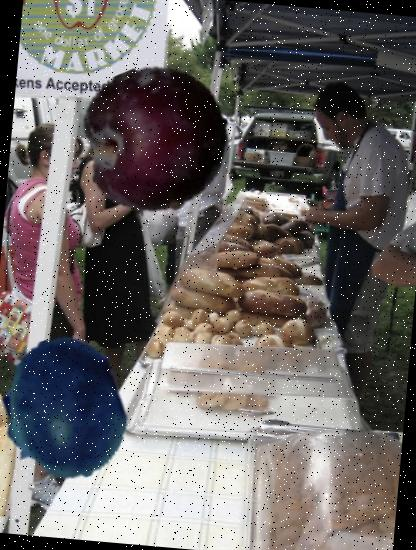Huckleberry: (0, 333, 139, 488)
Plum: (76, 60, 235, 219)
